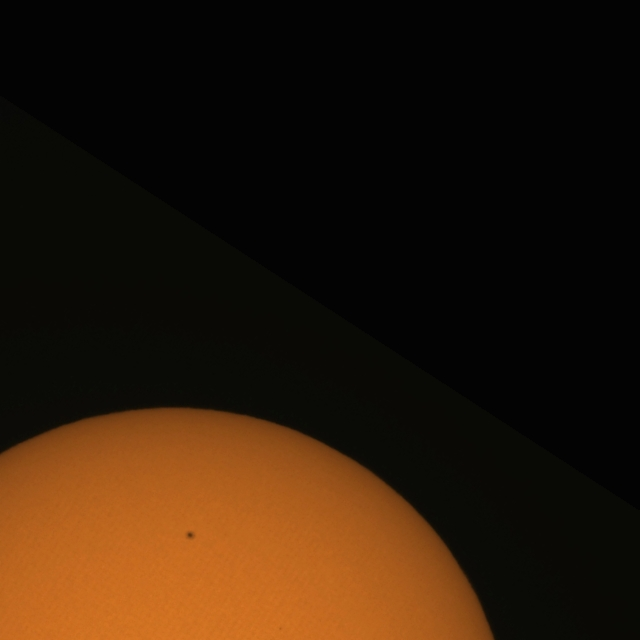sunspot: (185, 530, 196, 541)
